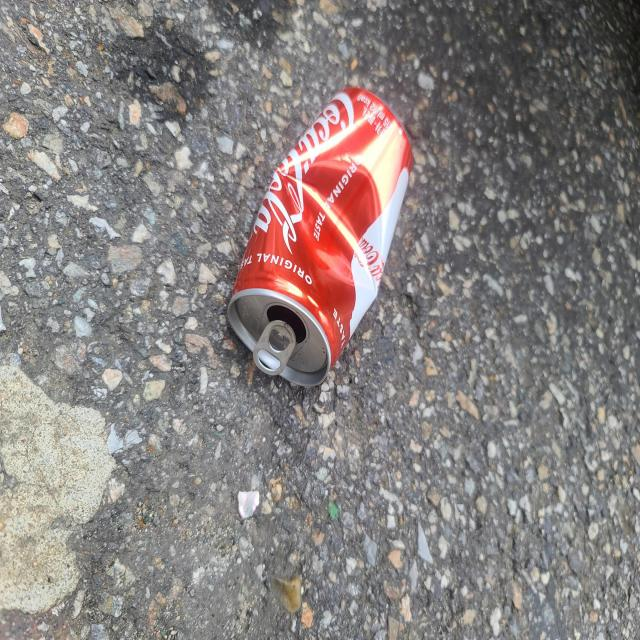can: (227, 86, 413, 386)
